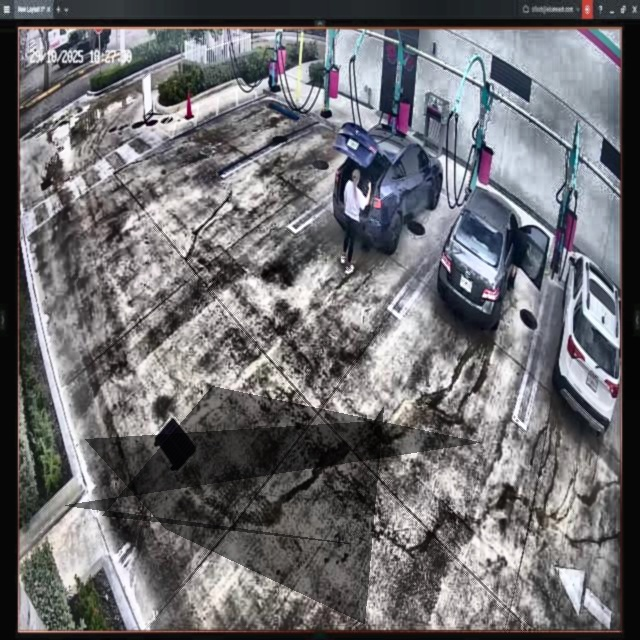Car: (334, 116, 442, 253), (439, 187, 545, 325)
